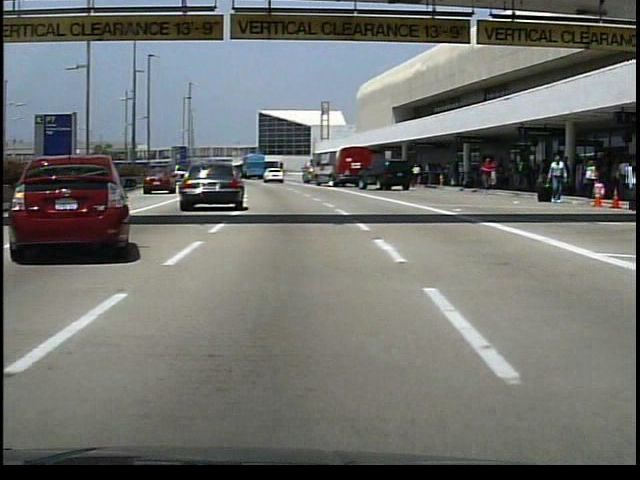person: (542, 152, 567, 202), (480, 155, 498, 189), (517, 154, 532, 189), (451, 157, 463, 186), (411, 163, 423, 188)
